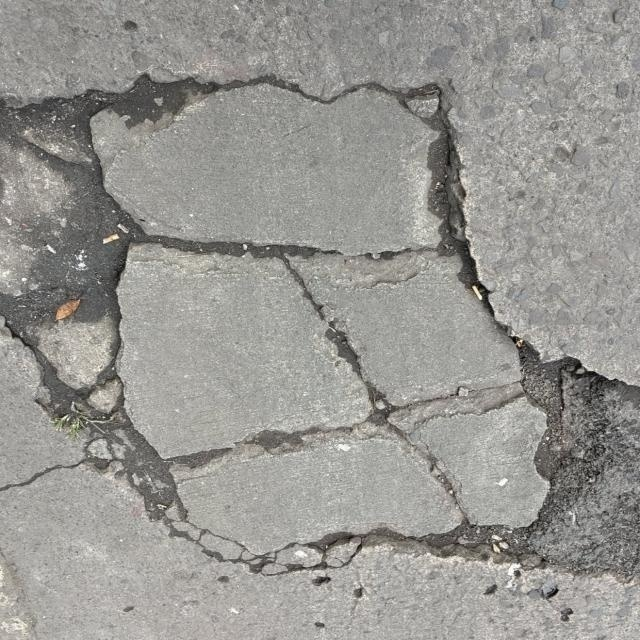pothole: (41, 92, 622, 580)
